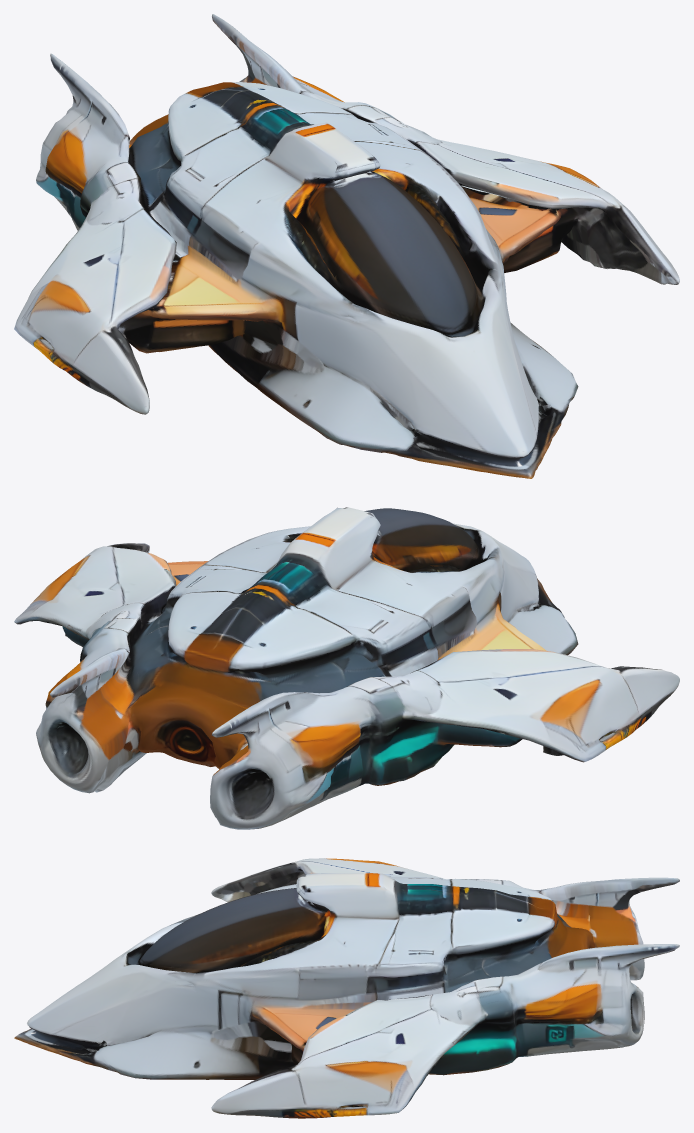
The model's file is space_ship.glb.
3 views of the same model, one above another, from view 1: azimuth 30°, elevation 25°; view 2: azimuth 150°, elevation 25°; view 3: azimuth 270°, elevation 25° (orthographic). The views are drawn at different scales.
Parts seen in each view (by area): view 1: model; view 2: model; view 3: model.
Part boxes in pixels (bbox=[...]): model: bbox=[14, 14, 679, 478]; model: bbox=[14, 507, 679, 829]; model: bbox=[14, 858, 679, 1118].
Size of the model in its own units: 1.49 by 0.5585 by 1.8.
Materials: 1 (1 with a texture image).
